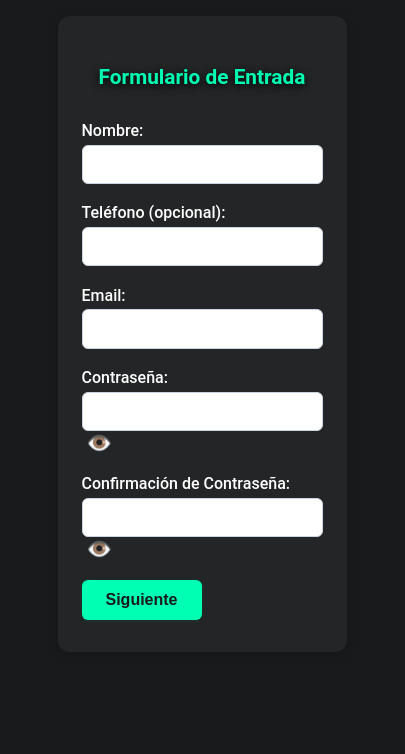
en el FormularioEntrada › muestra error si la contraseña es menor de 6 caracteres
In the password field labelled "Contraseña:": (202, 411) 82,392 -> 322,431, type "123"
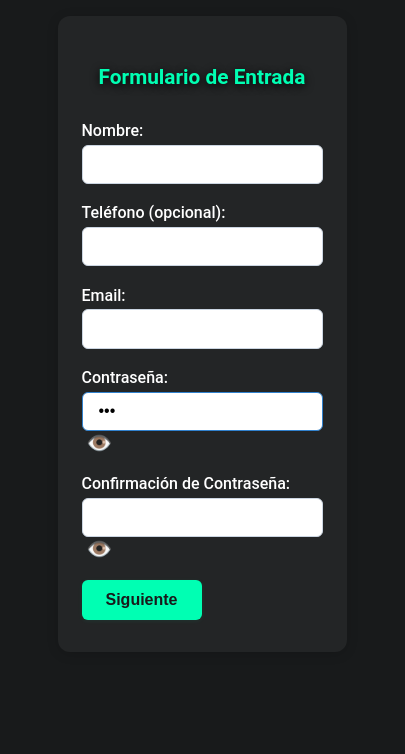
Click the button "Siguiente": (142, 600) 82,580 -> 202,620
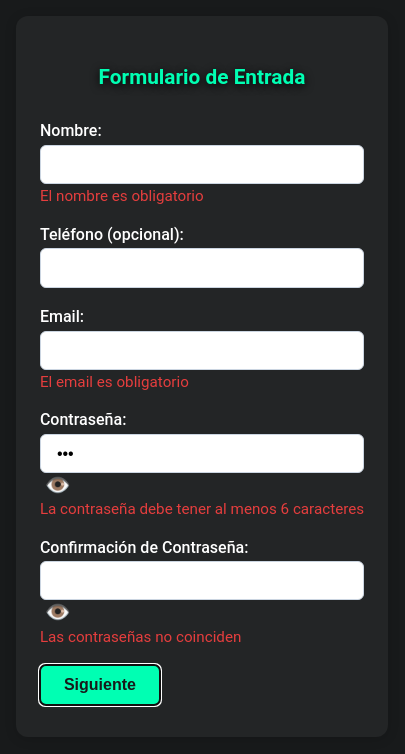
expect the text "La contraseña debe tener al menos 6 caracteres" is shown: met, box 40,500 -> 364,518
